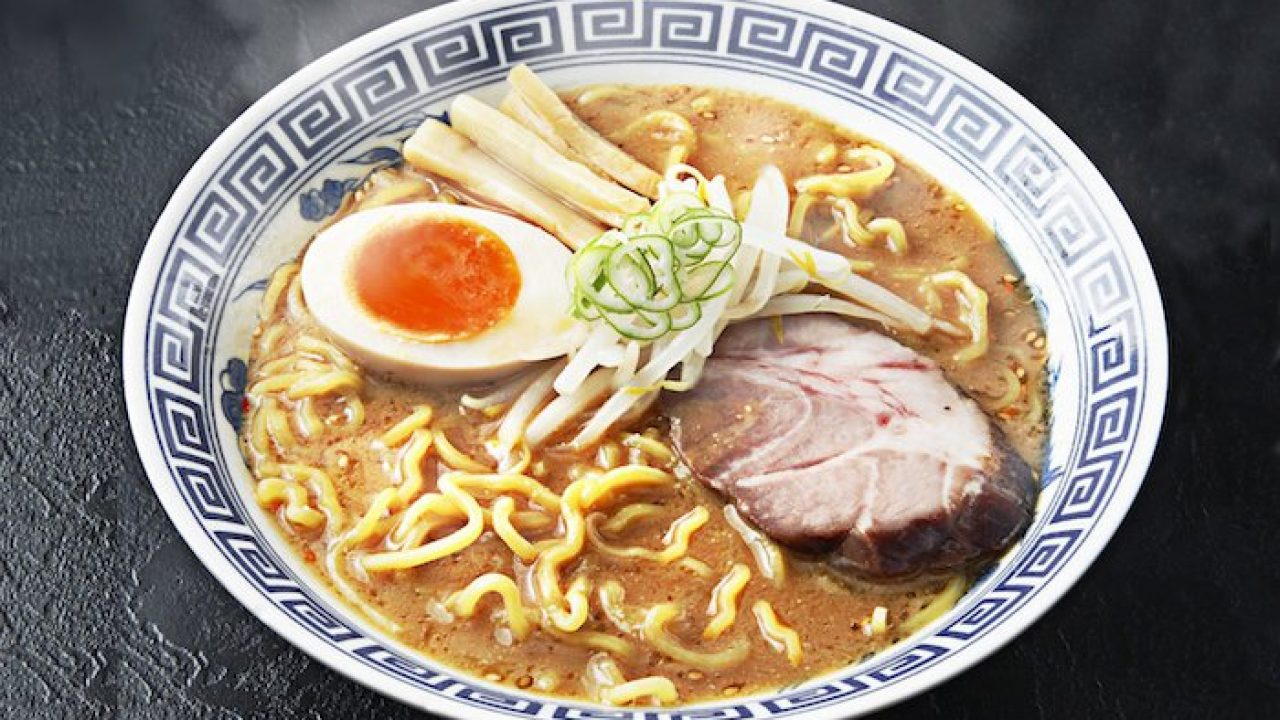ramen: (186, 39, 1132, 688)
